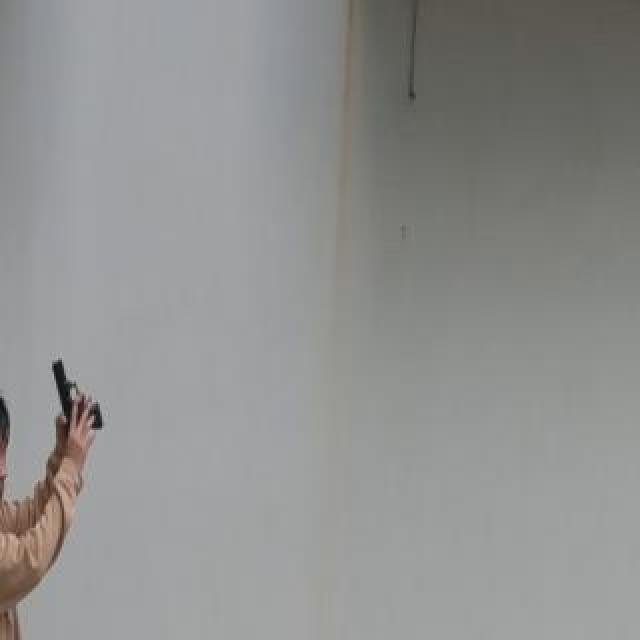Guns: (34, 338, 124, 472)
